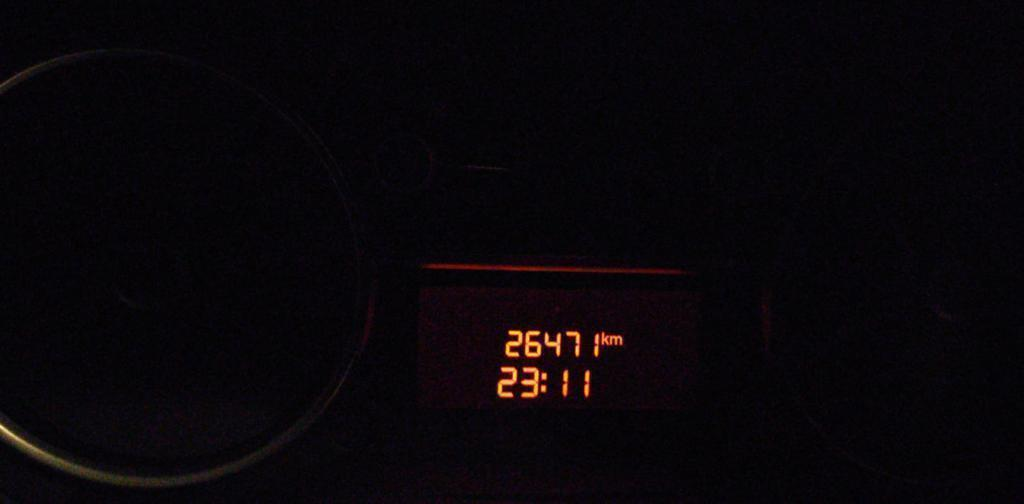1: (562, 367, 572, 397), (582, 369, 592, 398), (592, 331, 599, 358)
2: (496, 365, 517, 398), (504, 327, 523, 359)
3: (520, 365, 539, 399)
4: (543, 330, 561, 357)
6: (525, 329, 542, 358)
7: (565, 330, 581, 357)
X: (540, 369, 549, 394), (609, 334, 623, 347), (600, 330, 608, 346)
odometer: (461, 293, 660, 423)
